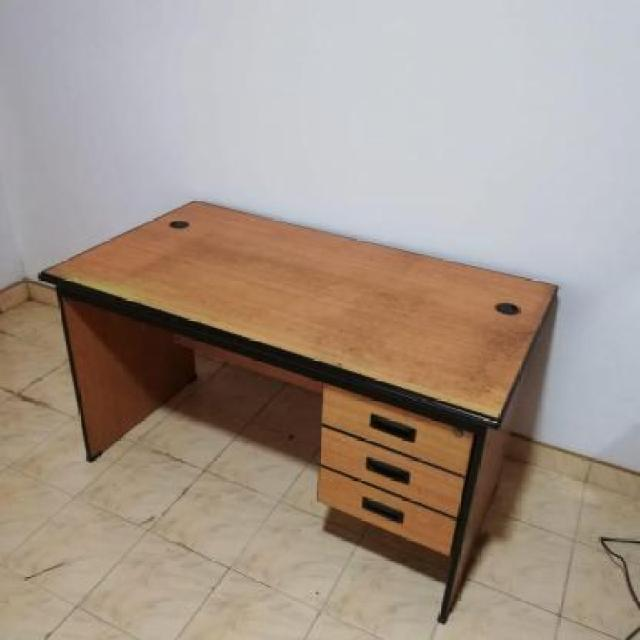tables: (37, 197, 558, 623)
